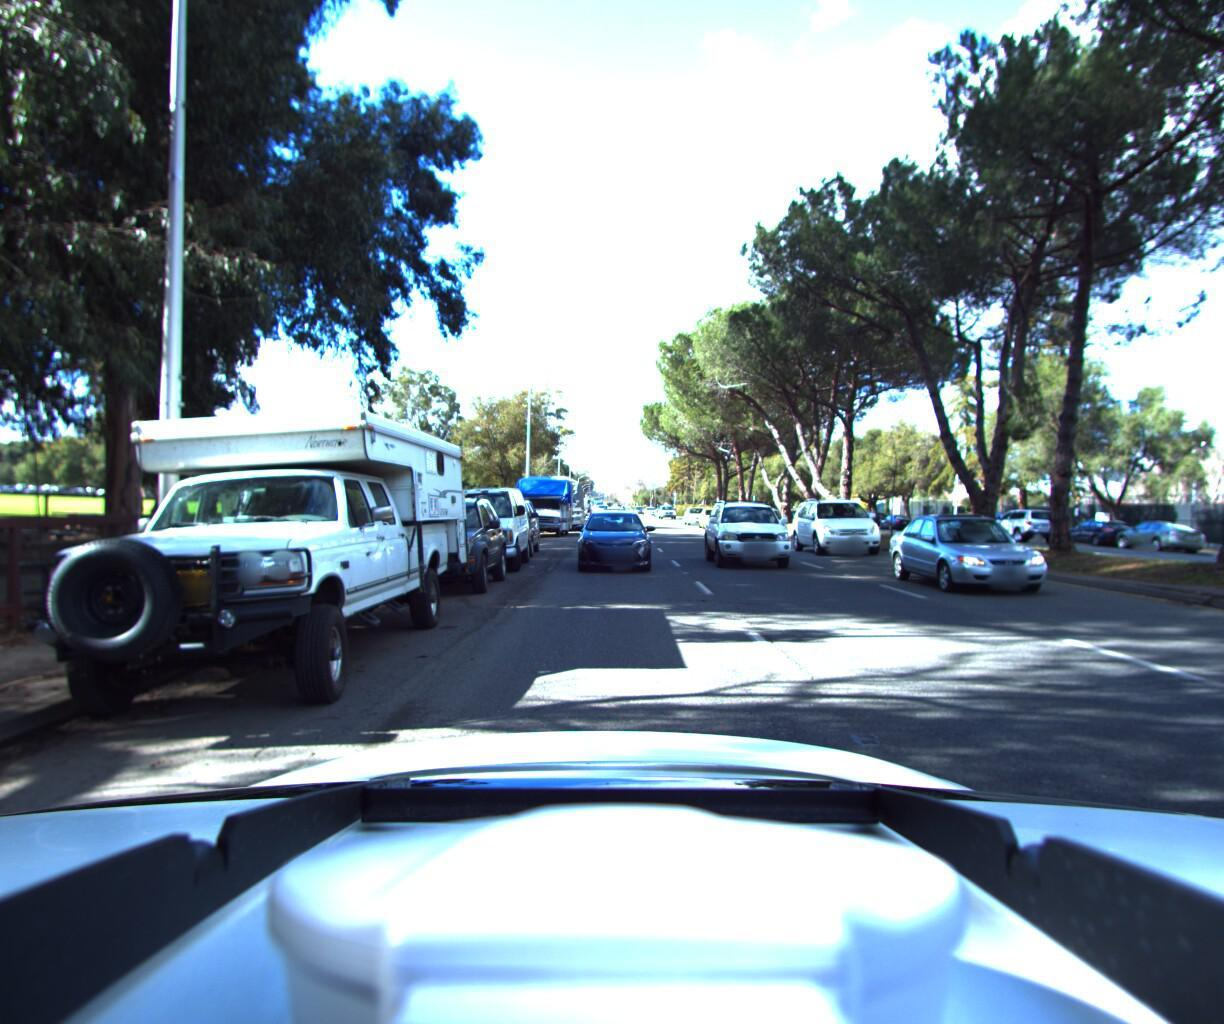car: (893, 513, 1081, 607), (368, 493, 509, 610), (417, 483, 535, 585), (702, 498, 799, 578), (791, 498, 896, 564), (573, 507, 653, 581), (466, 497, 542, 562), (1109, 520, 1212, 556), (1058, 516, 1140, 552), (976, 509, 1053, 545), (601, 505, 634, 536)
other_vehicle: (509, 476, 579, 543), (532, 480, 589, 536)
